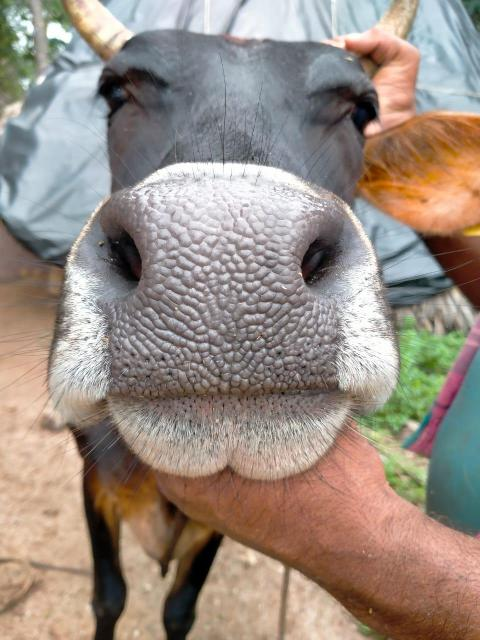Muzzle: (118, 196, 312, 370)
